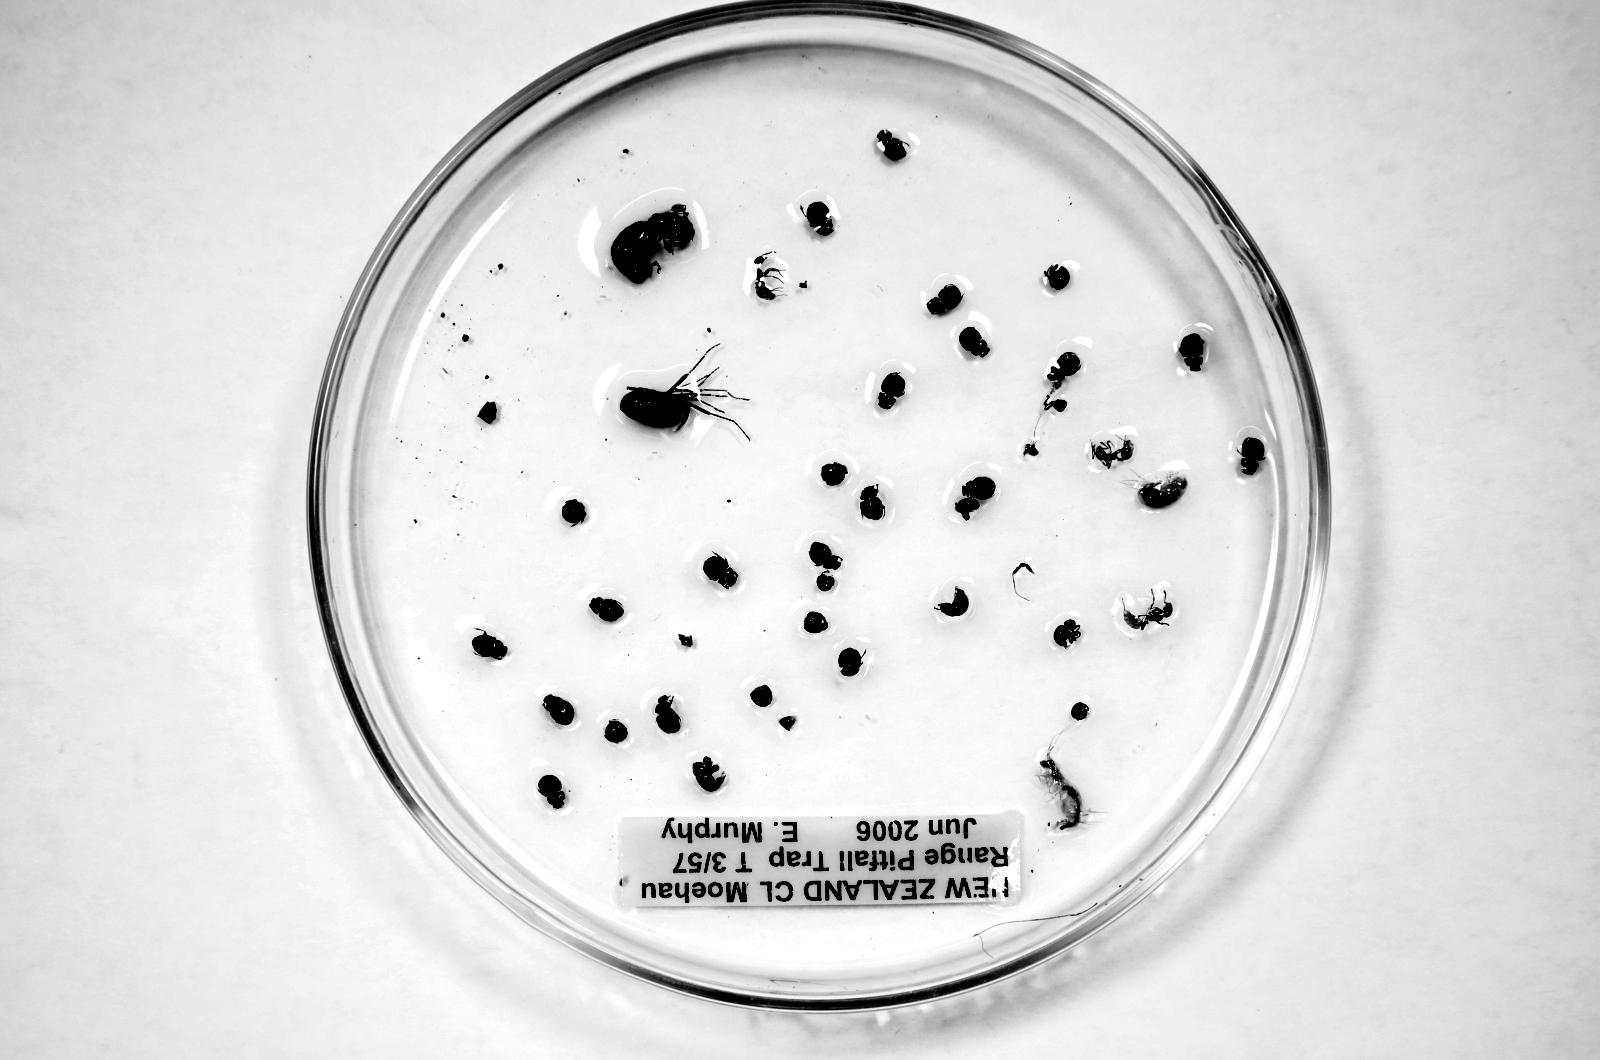amphipoda: (1039, 745, 1083, 829), (1133, 471, 1187, 509)
coleoptera: (611, 203, 695, 283), (704, 554, 738, 589), (693, 756, 725, 791), (926, 284, 963, 315), (1047, 351, 1081, 383), (934, 587, 970, 618), (877, 371, 906, 409), (654, 694, 681, 733), (543, 694, 576, 726), (1178, 331, 1204, 371), (472, 632, 508, 660), (958, 325, 990, 357), (809, 541, 842, 570), (805, 201, 834, 235), (537, 775, 565, 809), (1241, 437, 1265, 474), (589, 596, 624, 622), (961, 476, 996, 502), (877, 130, 906, 161), (860, 485, 885, 519), (1054, 618, 1081, 648), (838, 647, 862, 677)
formicidae: (1113, 581, 1173, 638), (1089, 434, 1134, 468)
opiliones: (620, 374, 734, 431)
